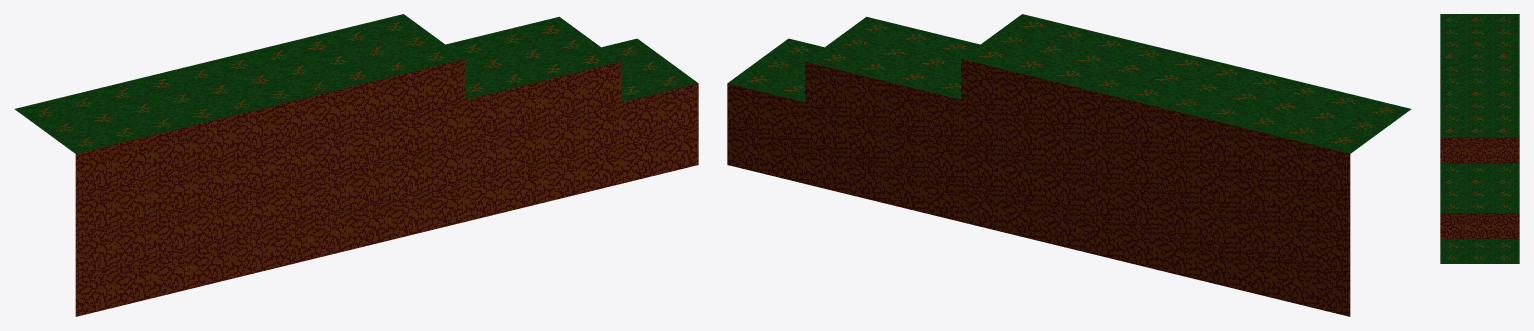
Rendered from EndRoom5Fragil5Piso-77ca569e8b5b.glb.
3 renders of one model, left to right at view 1: azimuth 30°, elevation 25°; view 2: azimuth 150°, elevation 25°; view 3: azimuth 270°, elevation 25°, orthographic. The views are drawn at different scales.
Parts seen in each view (by area): view 1: Setor_2; view 2: Setor_2; view 3: Setor_2.
Boxes of the visible parts, <box> form: Setor_2: <box>14,14,698,316</box>; Setor_2: <box>727,14,1411,316</box>; Setor_2: <box>1440,14,1519,263</box>.
Size of the model in its own units: 16.64 by 4.16 by 2.84.
Materials: 1 (1 with a texture image).
